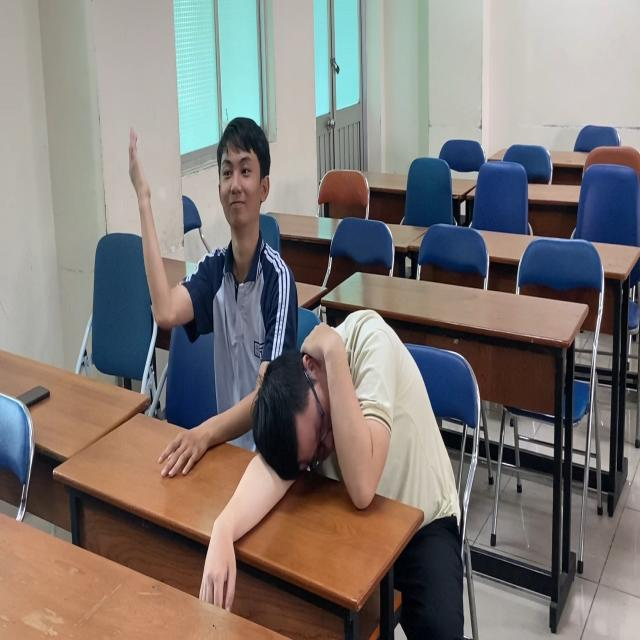raise_hand: (122, 111, 274, 503)
sleep: (236, 292, 449, 539)
